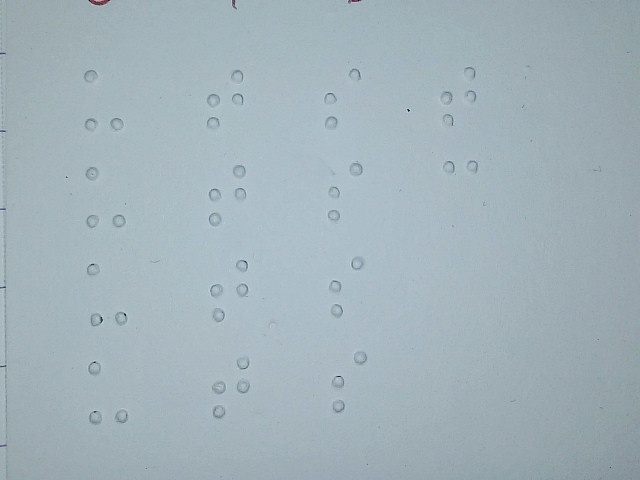S: (321, 67, 363, 130), (328, 254, 365, 319), (331, 348, 368, 413), (327, 160, 365, 222)
T: (205, 67, 247, 130), (206, 163, 248, 226), (210, 257, 250, 323), (211, 353, 251, 419)
U: (82, 67, 126, 132), (84, 164, 128, 229), (86, 261, 130, 326), (87, 359, 131, 424)
